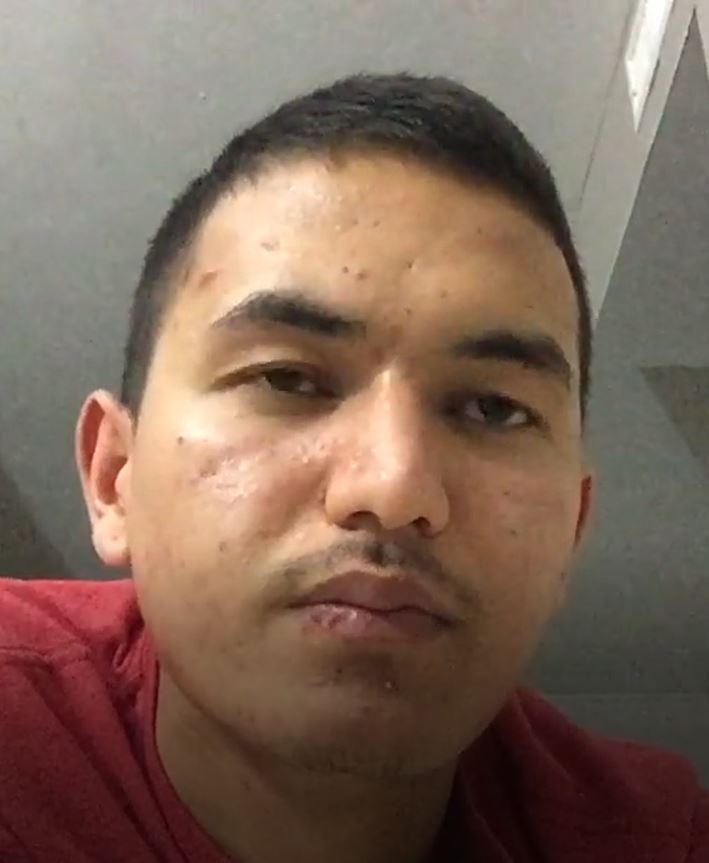Not Sleeping: (189, 316, 585, 473)
